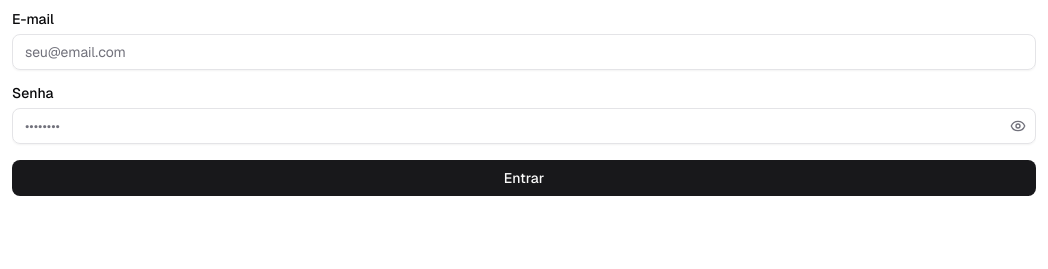
Test: LoginForm › Acessibilidade › should have error messages with role="alert"
This screenshot has width=1048, height=269.
Step 1. Click the button "Entrar" → (524, 178), box top-left (12, 160), bottom-right (1036, 196)
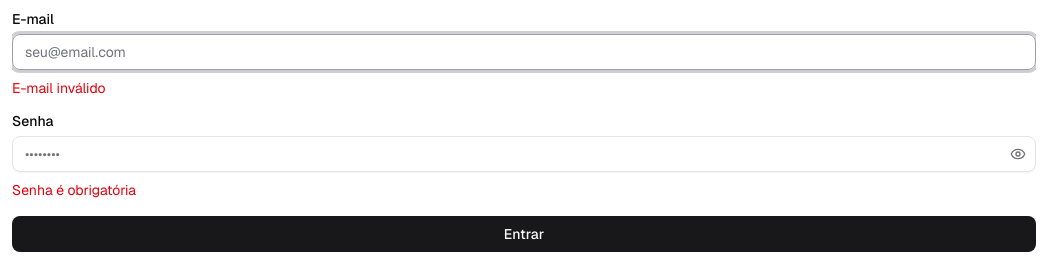
Now the message "E-mail inválido" is shown, box top-left (12, 79), bottom-right (106, 97)
